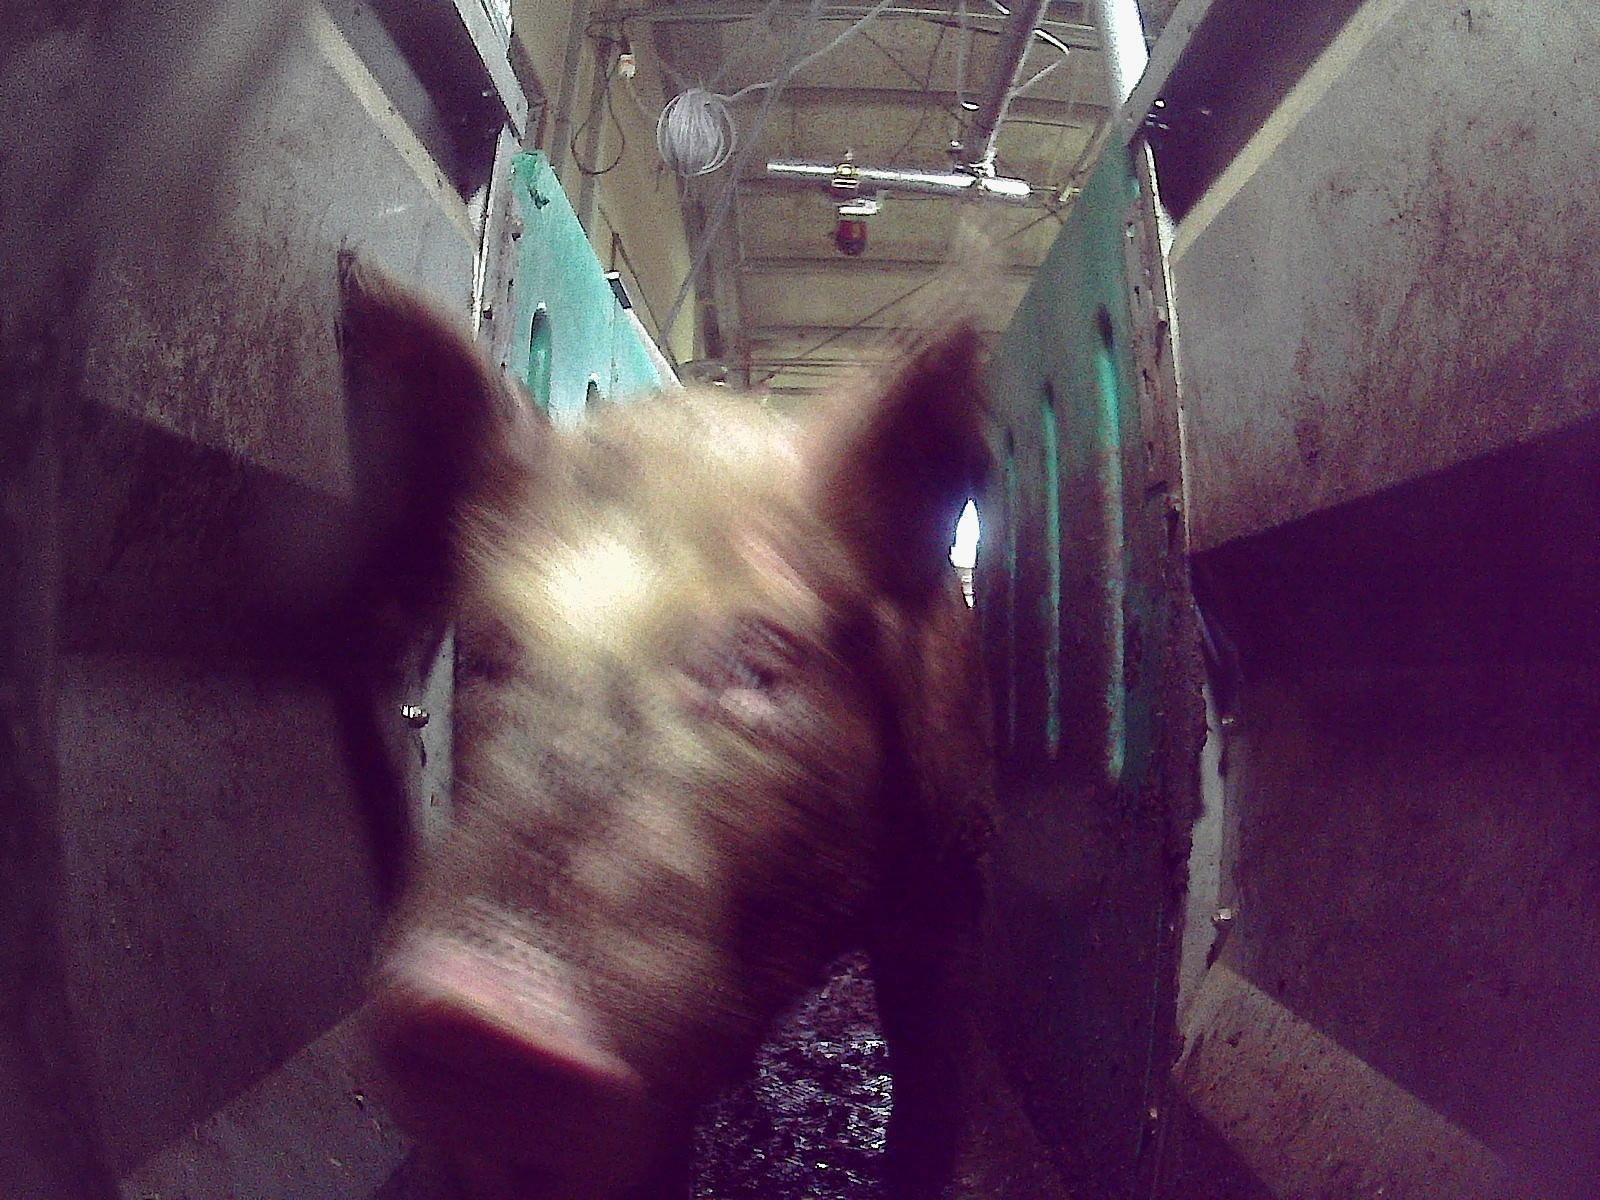Face: (368, 456, 864, 1180)
